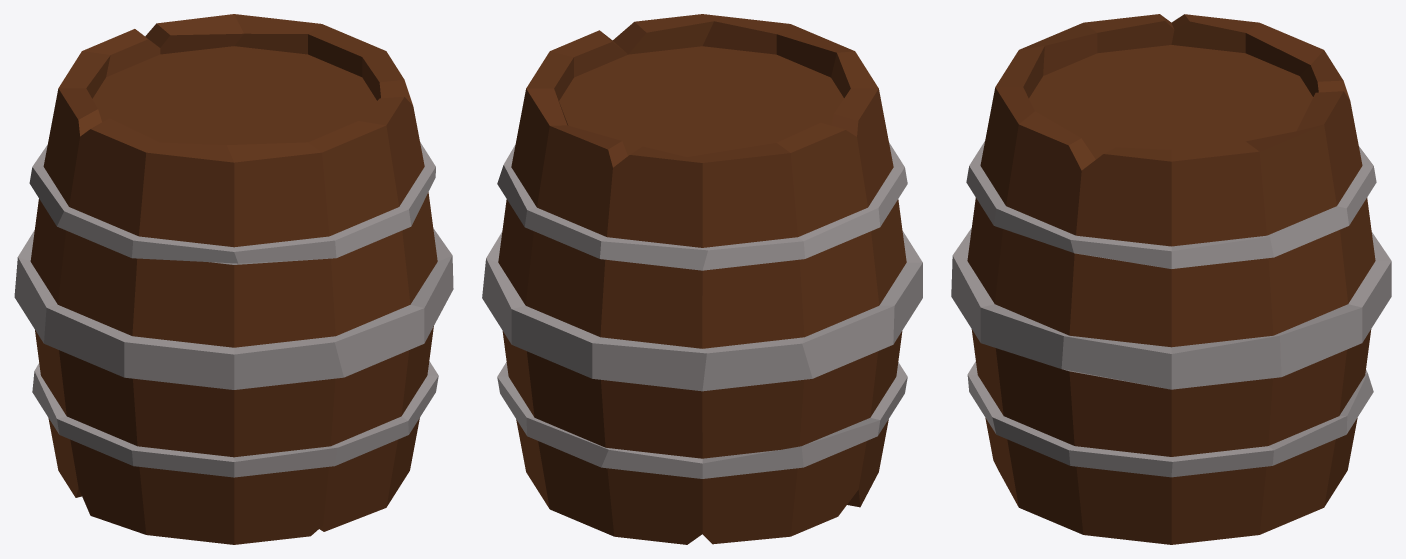
File: Barrel.fbx
The picture shows the model from 3 angles, left to right: view 1: azimuth 30°, elevation 25°; view 2: azimuth 150°, elevation 25°; view 3: azimuth 270°, elevation 25°; orthographic projection.
Visible parts, largest first — view 1: Barrel; view 2: Barrel; view 3: Barrel.
Part boxes in pixels (x1=…): Barrel: x1=14, y1=14, x2=453, y2=544; Barrel: x1=482, y1=14, x2=922, y2=544; Barrel: x1=951, y1=14, x2=1391, y2=544.
Bounding box in the file's own units: 125 × 124 × 125.
